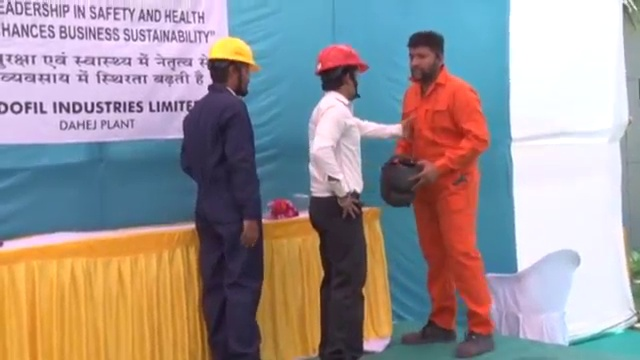helmet: (206, 32, 260, 74), (314, 41, 372, 71)
helmet_off: (406, 30, 445, 81)
helmet_on: (206, 32, 262, 100), (312, 41, 372, 102)
person: (308, 42, 412, 360), (401, 31, 497, 356), (178, 32, 265, 360)
